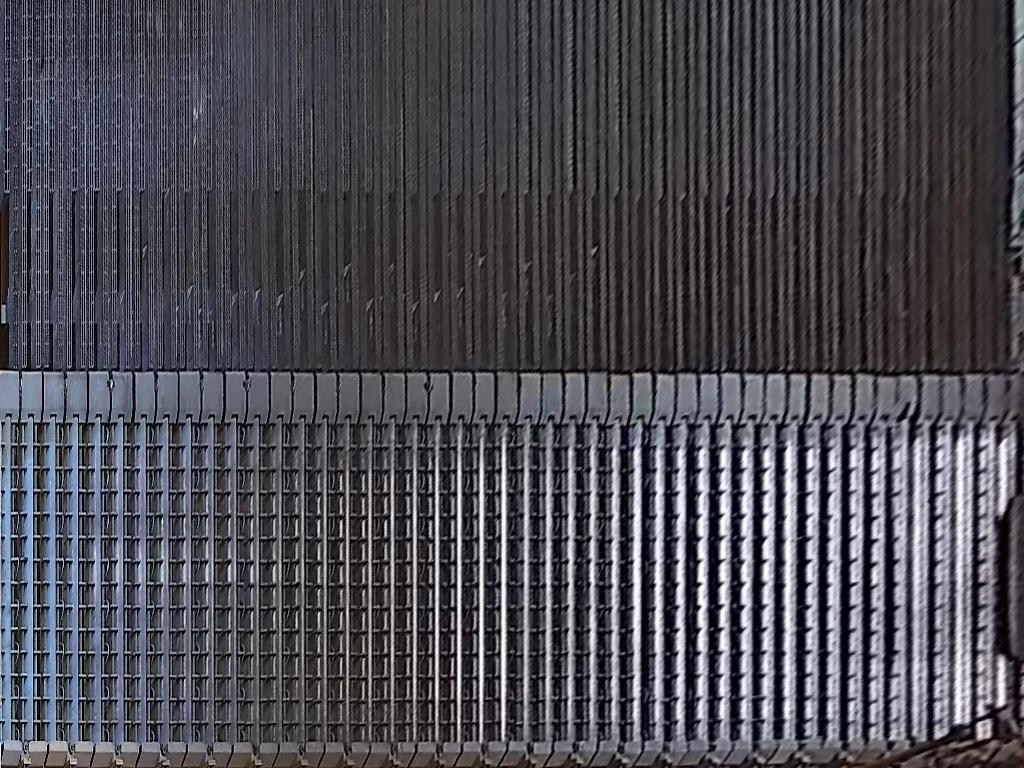steel: (1005, 496, 1024, 661)
